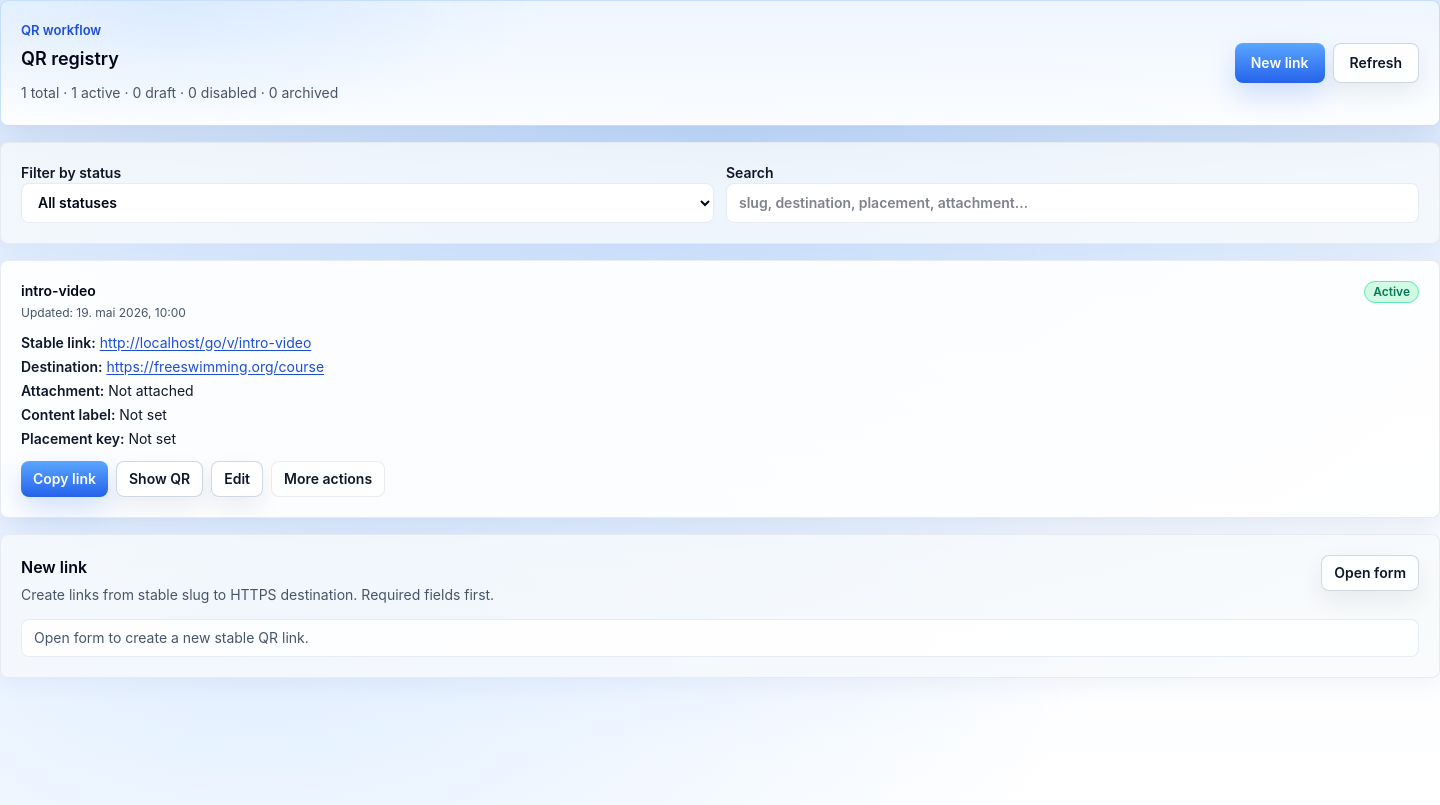
Test: AdminQrLinksManager state rendering › keeps QR asset generation errors retryable without changing the generation path
Expected: the text "intro-video" is shown, [21,282,96,298]
Click the button "Show QR" at (160, 478), box [116,460,203,496]
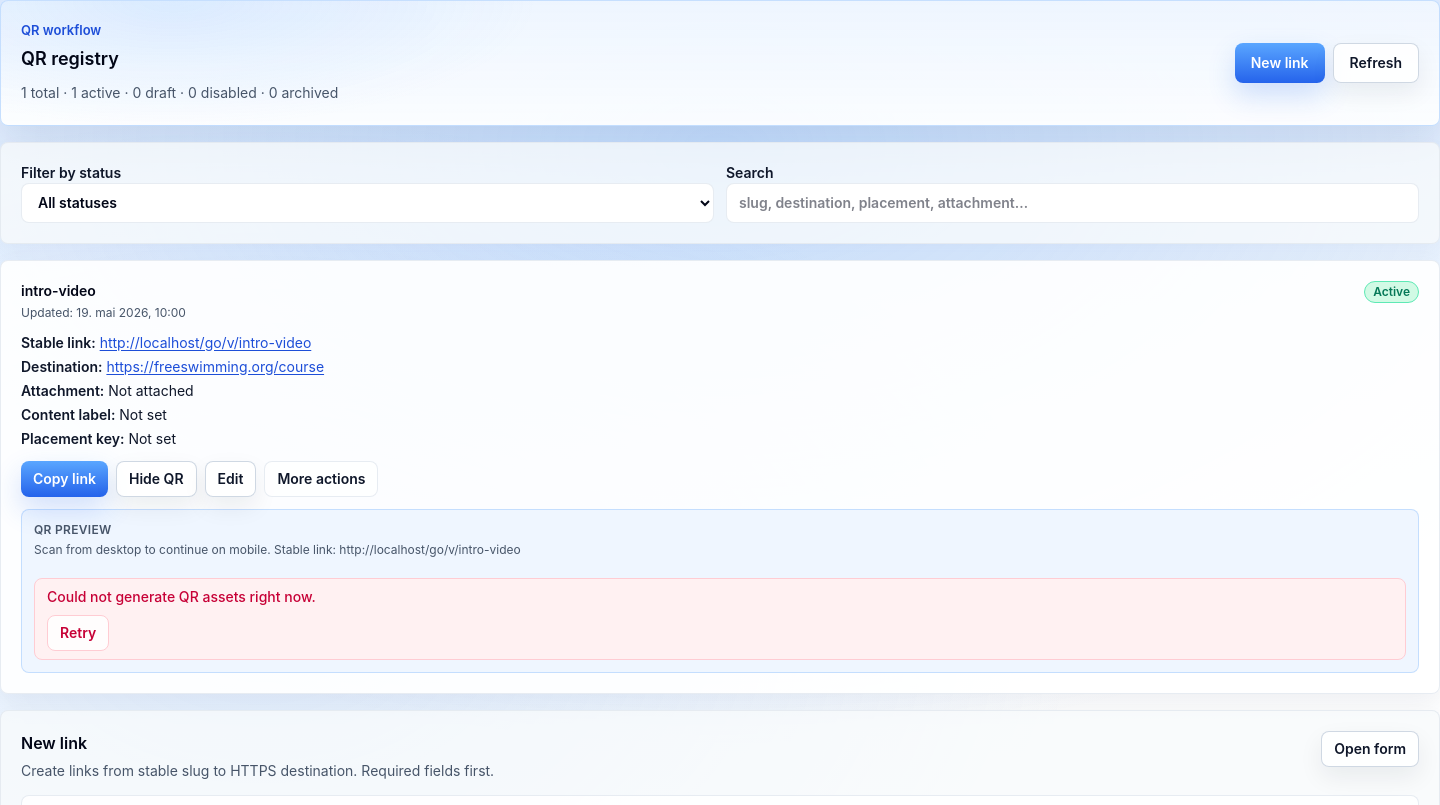
Now the message shows "Could not generate QR assets right now.", box [47,588,316,604]
Click the button "Retry" at (78, 632), box [47,614,109,650]
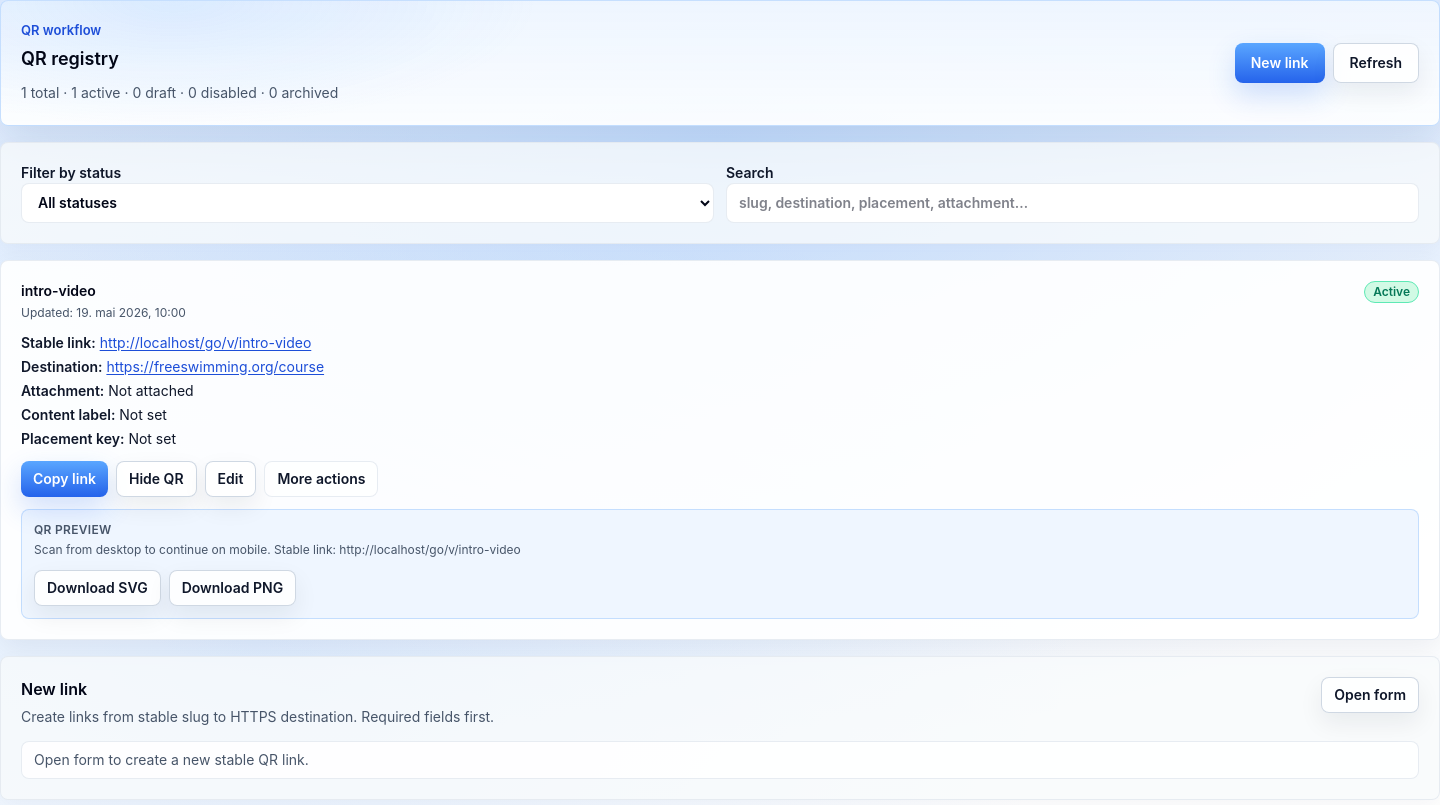
Now the message "Could not generate QR assets right now. Retry" is gone
